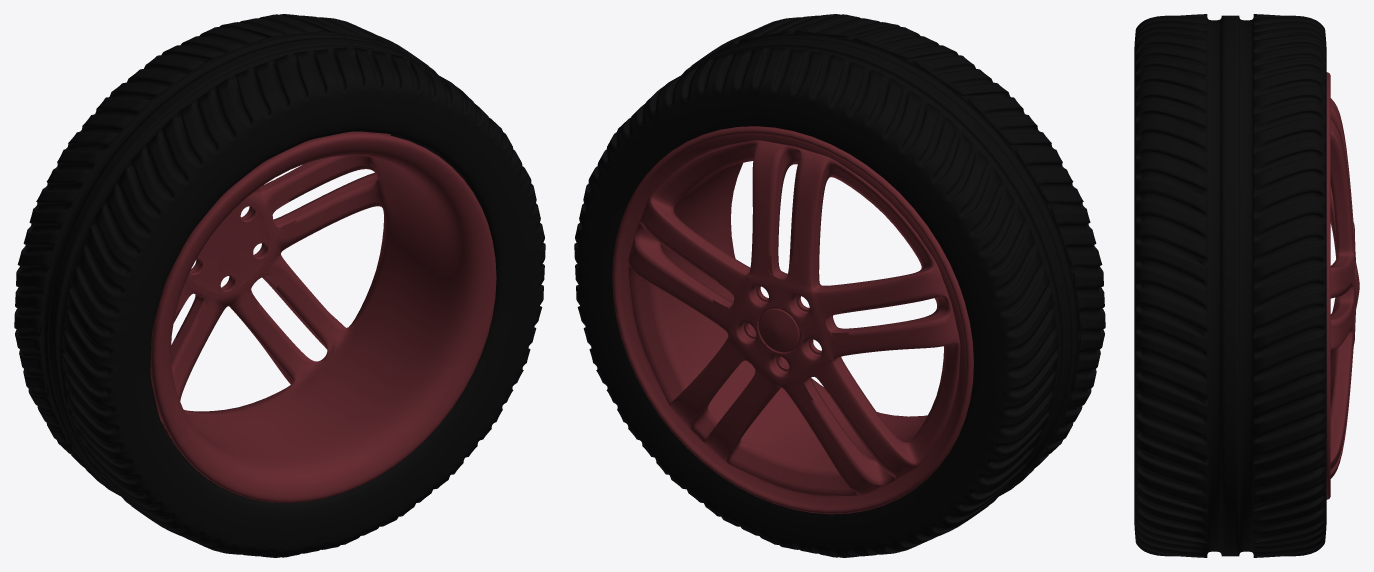
The model's file is wheel.dae.
The picture shows the model from 3 angles, left to right: view 1: azimuth 30°, elevation 25°; view 2: azimuth 150°, elevation 25°; view 3: azimuth 270°, elevation 25°; orthographic projection. The views are drawn at different scales.
Parts seen in each view (by area): view 1: tyre_l; view 2: tyre_l; view 3: tyre_l.
Part boxes in pixels (x1,y1,x2,y2): tyre_l: (14,14,545,557); tyre_l: (574,14,1105,557); tyre_l: (1134,14,1359,557).
Size of the model in its own units: 0.2017 by 0.0834 by 0.2017.
